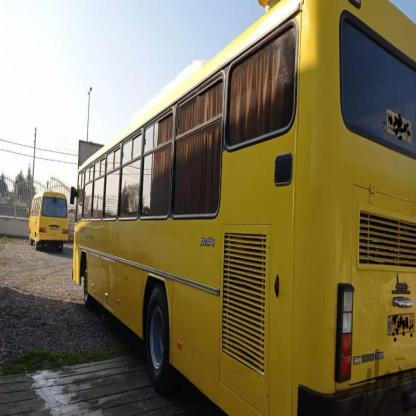Bus: (73, 0, 416, 416), (26, 183, 70, 257)
